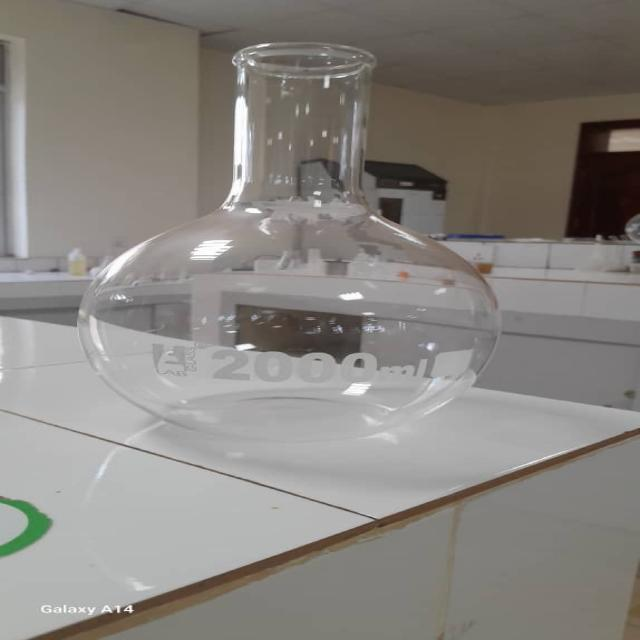Round Bottom Flask: (51, 39, 502, 456)
